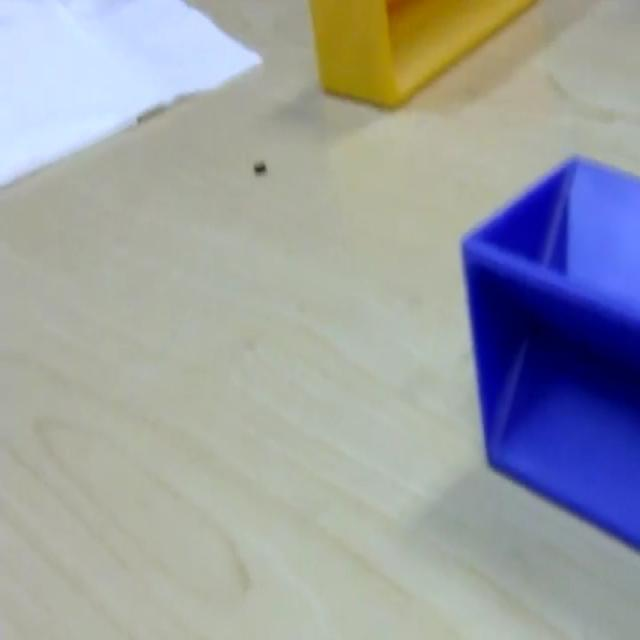blue_block: (459, 151, 639, 549)
yellow_block: (307, 0, 536, 108)
